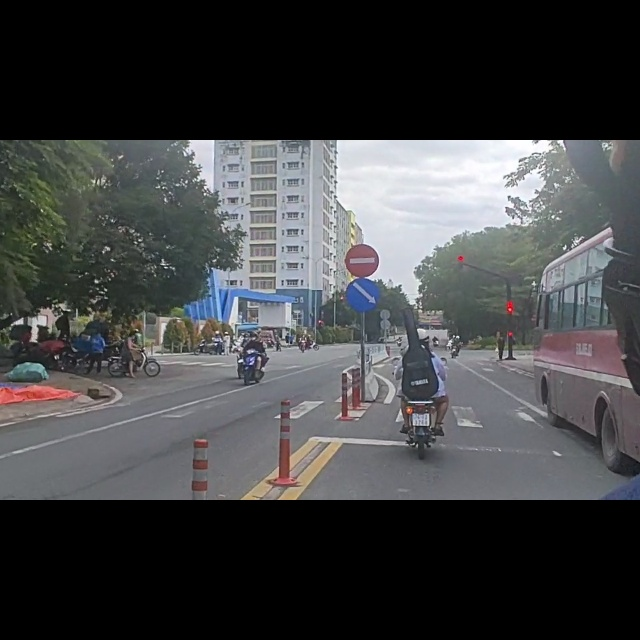bien_hieu_lenh: (344, 181, 381, 244), (345, 245, 380, 307)
